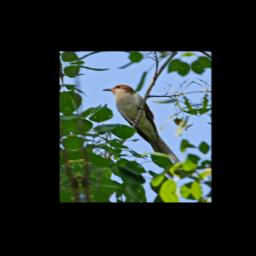Cuckoo: (101, 79, 186, 186)
